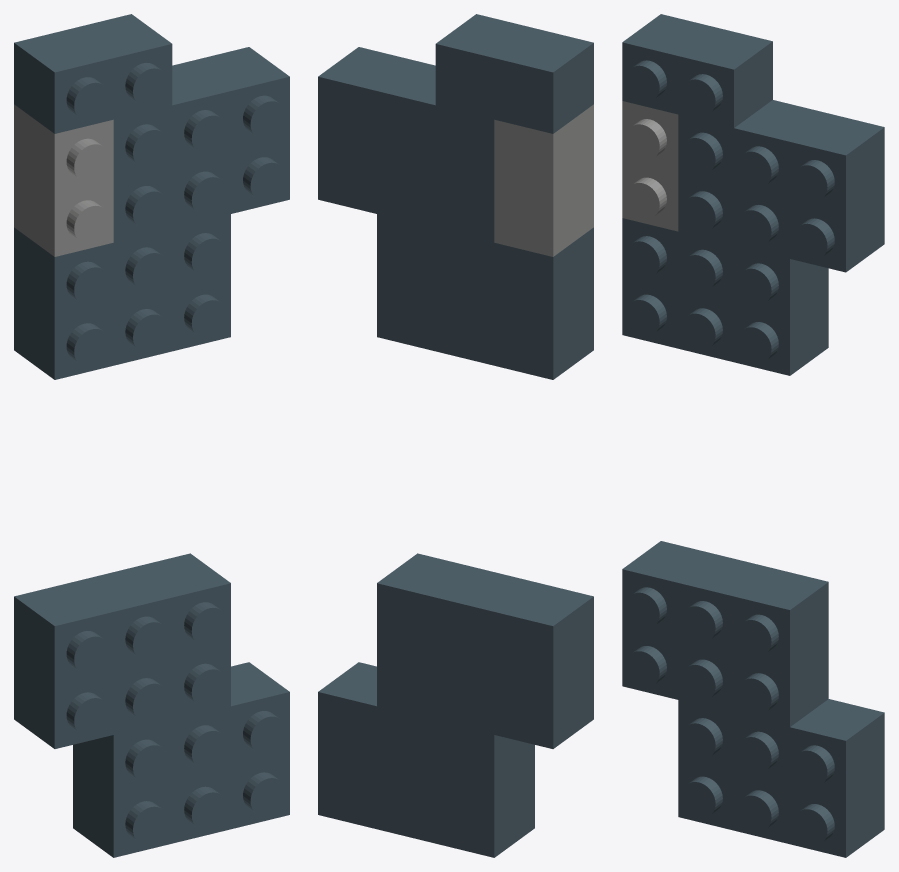
Rendered from current.glb.
The picture shows the model from 3 angles, left to right: view 1: azimuth 30°, elevation 25°; view 2: azimuth 150°, elevation 25°; view 3: azimuth 330°, elevation 25°; orthographic projection. The views are drawn at different scales.
Parts seen in each view (by area): view 1: world; view 2: world; view 3: world.
Boxes of the visible parts, <box> form: world: <box>14,14,289,857</box>; world: <box>318,14,593,857</box>; world: <box>622,14,884,857</box>.
Size of the model in its own units: 32 by 104 by 11.4.
